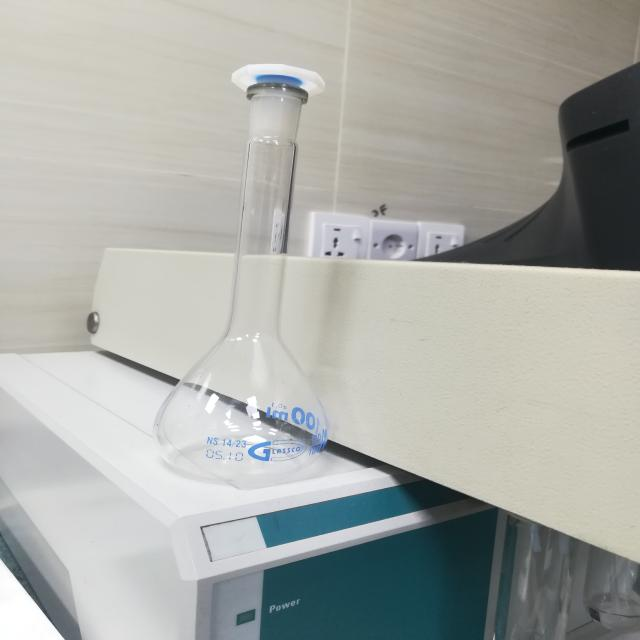Volumetric_Flask: (127, 25, 389, 502)
